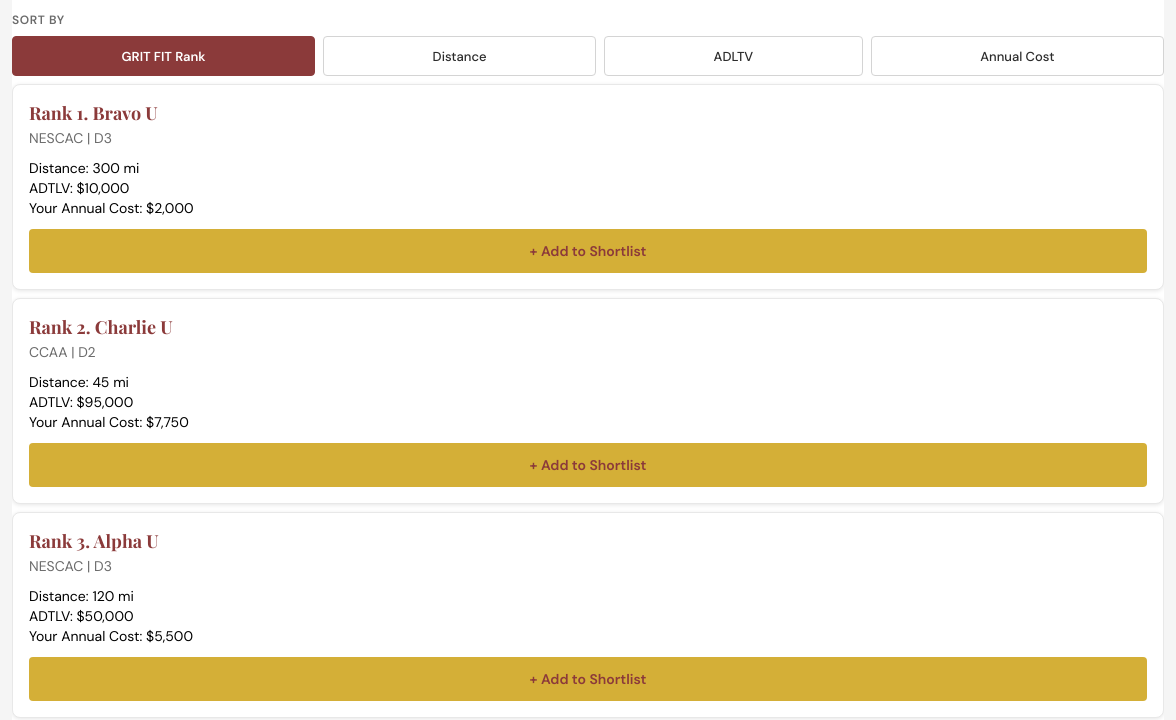
Test case: G8 — table tooltips (GritFitTableView) › mobile sort-label tooltips › Annual Cost sort button tooltip reuses the desktop "Your Annual Cost" copy
Check: the text "Annual Cost" is shown, box top-left (980, 48), bottom-right (1054, 64)
Focus the radio button with test id "mobile-sort-label-annualCost" at {"x": 1017, "y": 56}, box top-left (871, 36), bottom-right (1164, 76)
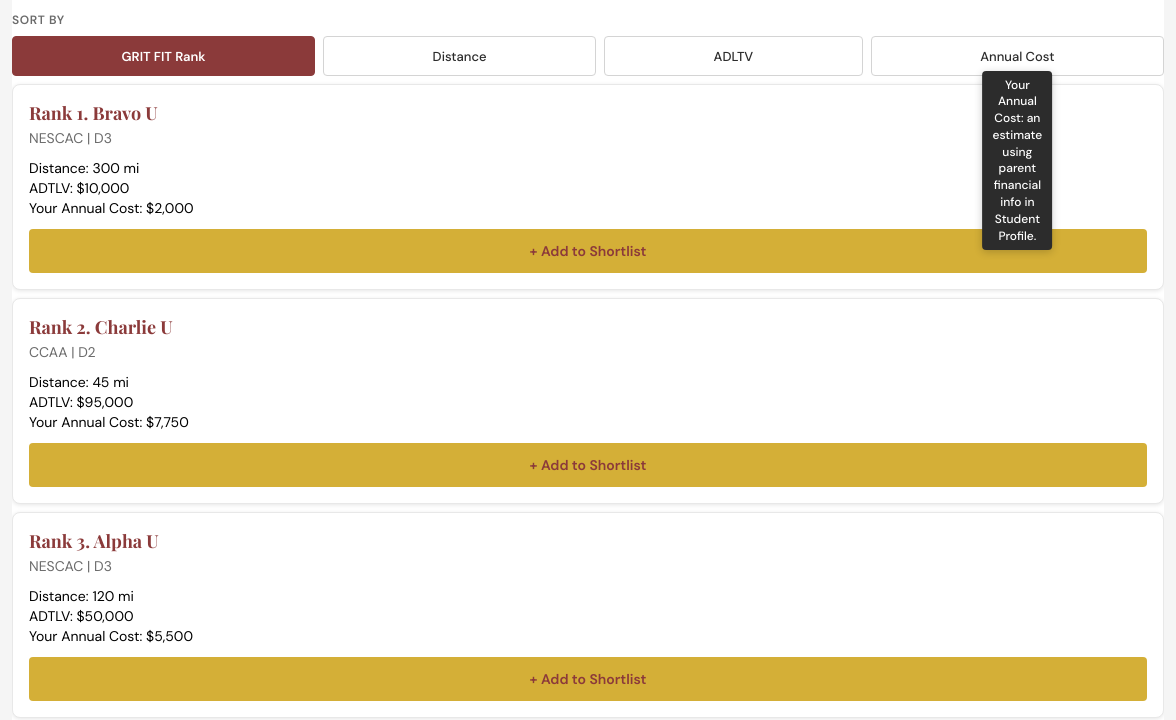
Check: the tooltip is shown, box top-left (982, 70), bottom-right (1052, 250)
Check: the tooltip shows "estimate using parent financial info in Student Profile", box top-left (992, 76), bottom-right (1042, 244)
